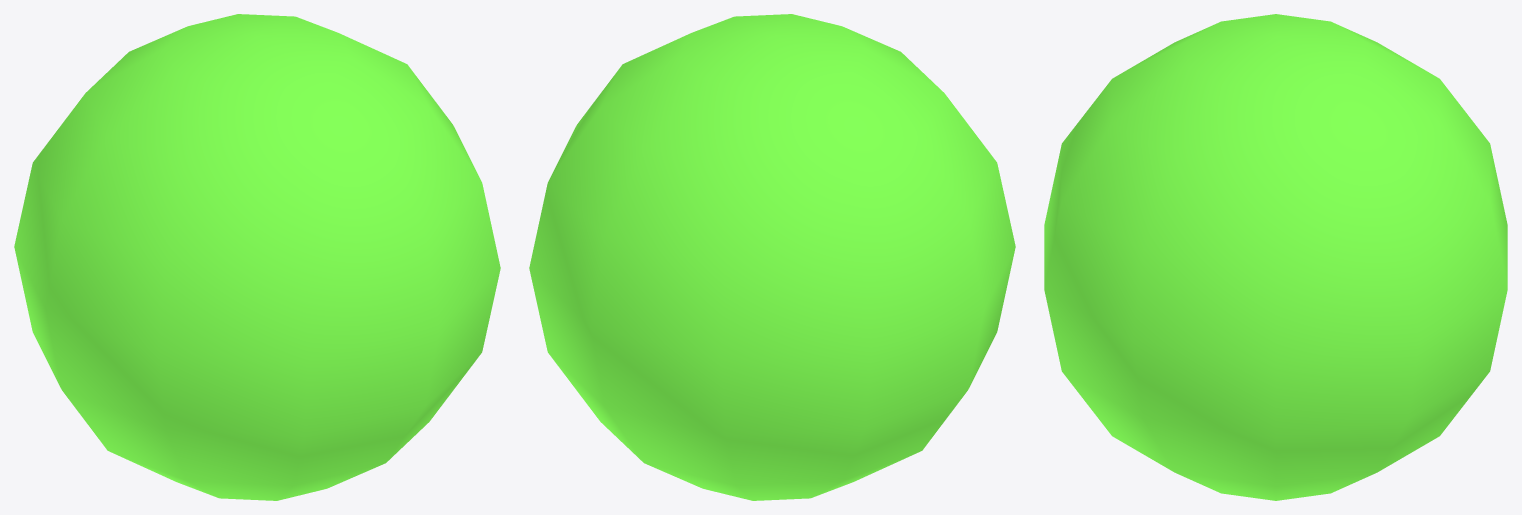
File: slime.glb
The picture shows the model from 3 angles, left to right: view 1: azimuth 30°, elevation 25°; view 2: azimuth 150°, elevation 25°; view 3: azimuth 270°, elevation 25°; orthographic projection.
Visible parts, largest first — view 1: slime; view 2: slime; view 3: slime.
Part boxes in pixels (x1,y1,x2,y2): slime: [14, 14, 500, 500]; slime: [529, 14, 1015, 500]; slime: [1044, 14, 1507, 500].
Bounding box in the file's own units: 0.32 × 0.32 × 0.3043.
